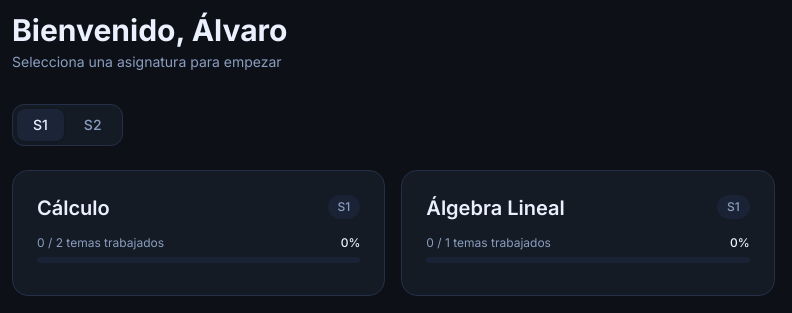
Test case: DashboardView › shows S2 subjects after clicking S2 tab
The image size is (792, 313).
Click the button "S2" at (93, 125), box 68,109 -> 118,141
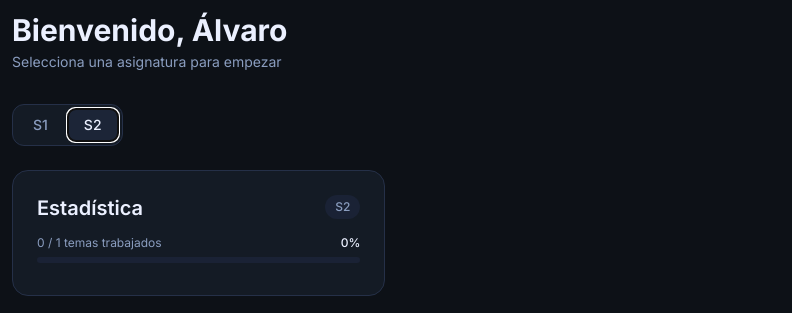
Check: the heading "Estadística" is shown, box 37,195 -> 143,222
Check: the link "Cálculo" is gone
